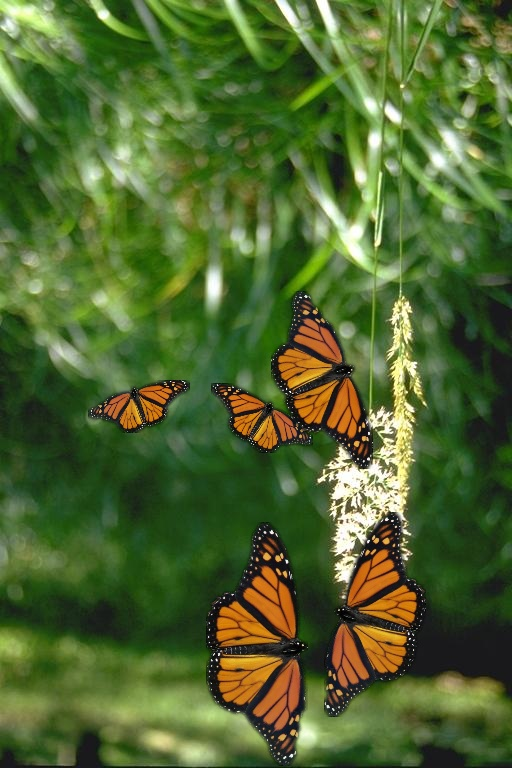danaus_plexippus: (206, 522, 308, 766), (324, 512, 426, 717), (271, 291, 373, 469), (211, 383, 313, 453), (88, 380, 190, 433)
